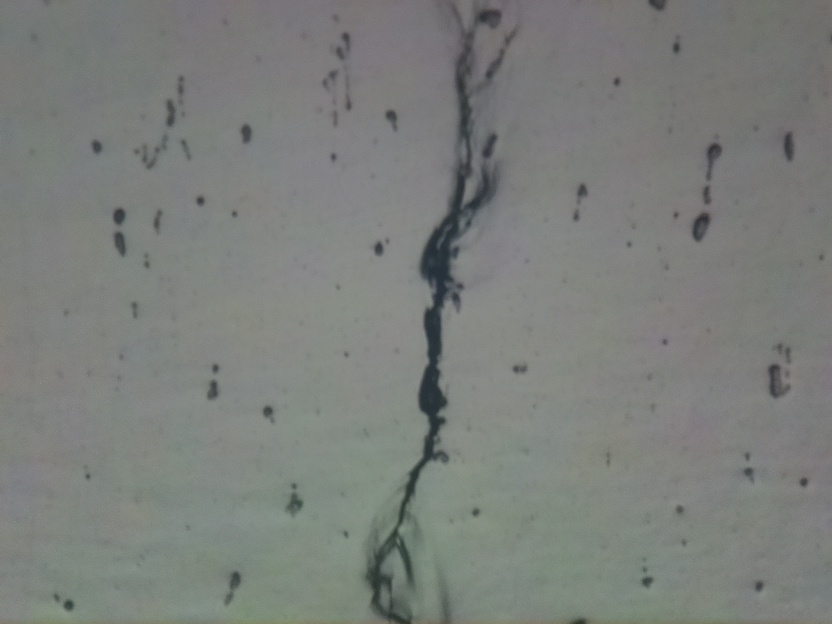crack: (366, 0, 511, 624)
